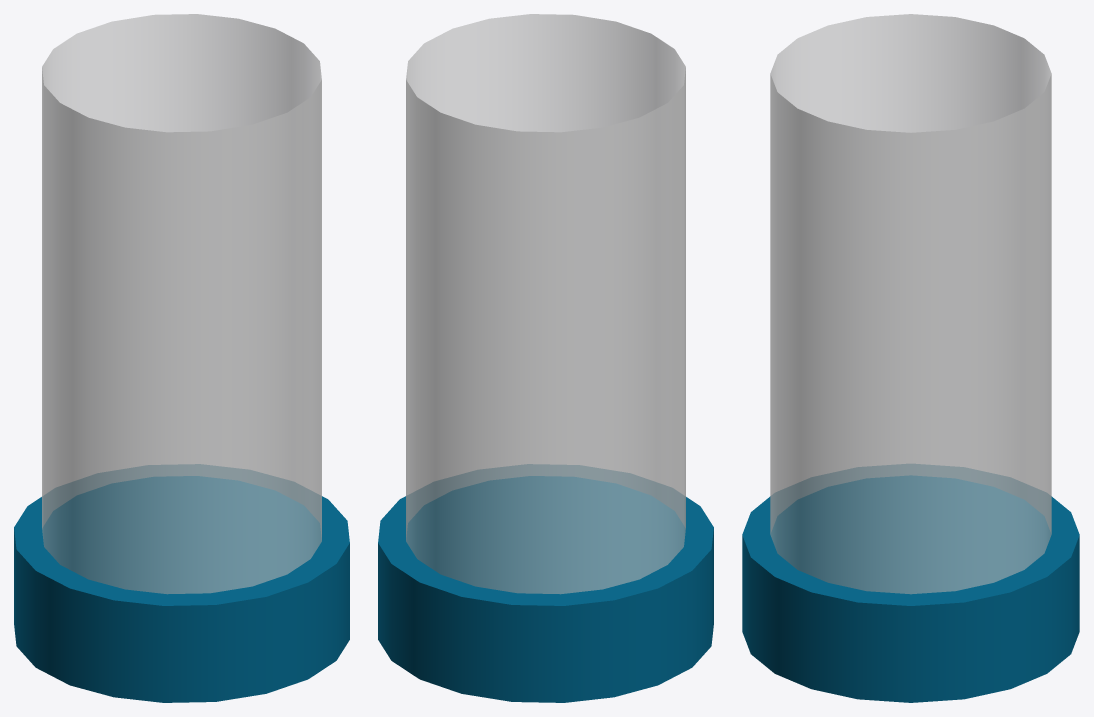
The model's file is G01_028_PipeB.fbx.
The picture shows the model from 3 angles, left to right: view 1: azimuth 30°, elevation 25°; view 2: azimuth 150°, elevation 25°; view 3: azimuth 270°, elevation 25°; orthographic projection.
Visible parts, largest first — view 1: 017_Pipe_02_B, Line.004; view 2: 017_Pipe_02_B, Line.004; view 3: 017_Pipe_02_B, Line.004.
Part boxes in pixels (bbox=[...]): 017_Pipe_02_B: bbox=[42, 14, 321, 594]; Line.004: bbox=[14, 464, 349, 702]; 017_Pipe_02_B: bbox=[406, 14, 685, 594]; Line.004: bbox=[378, 464, 713, 702]; 017_Pipe_02_B: bbox=[770, 14, 1051, 594]; Line.004: bbox=[742, 464, 1079, 702].
Bounding box in the file's own units: 60 × 109 × 60.
